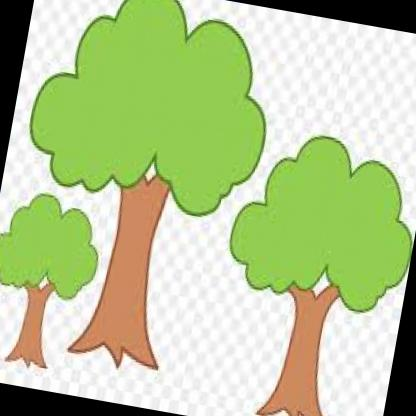crown_cloud: (13, 0, 288, 225), (223, 112, 416, 318), (0, 188, 109, 305)
root_only: (62, 309, 169, 380), (251, 394, 333, 416), (4, 344, 51, 375)
trunk_straight: (96, 209, 166, 316), (275, 315, 330, 392), (15, 296, 51, 350)
